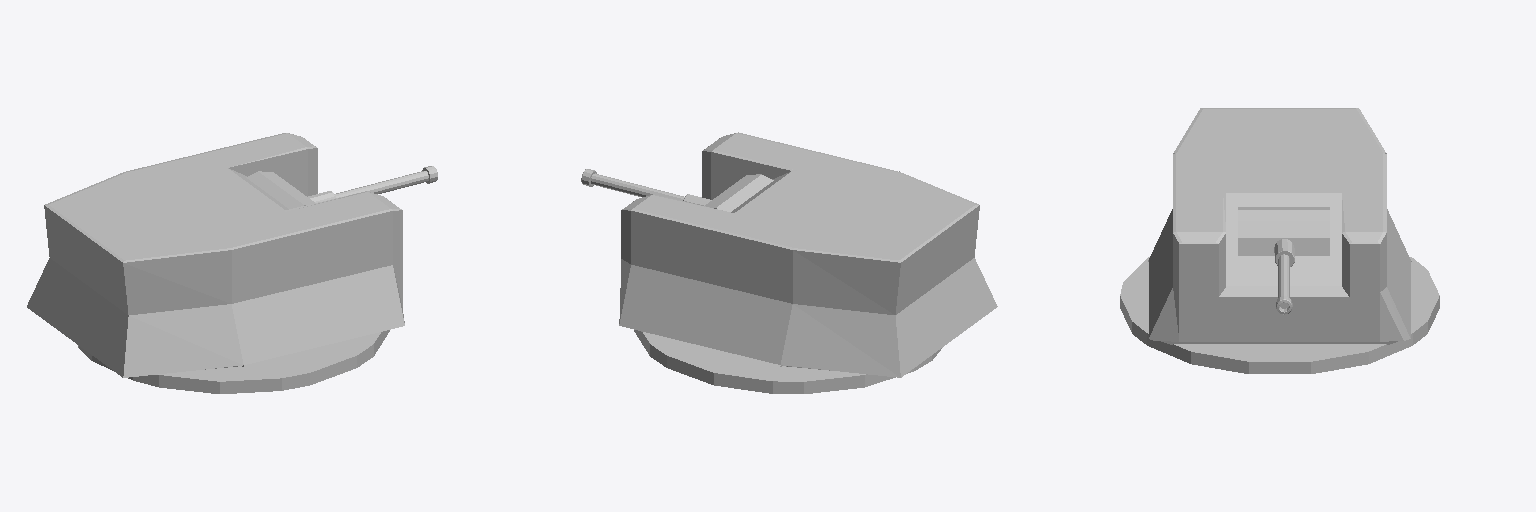
The model's file is turret1.obj.
3 renders of one model, left to right at view 1: azimuth 30°, elevation 25°; view 2: azimuth 150°, elevation 25°; view 3: azimuth 270°, elevation 25°, orthographic.
Visible parts, largest first — view 1: Cylinder_Cylinder.001, Cylinder.001_Cylinder; view 2: Cylinder_Cylinder.001, Cylinder.001_Cylinder; view 3: Cylinder_Cylinder.001, Cylinder.001_Cylinder.
Boxes of the visible parts, x1=… form: Cylinder_Cylinder.001: x1=27, y1=133, x2=437, y2=393; Cylinder.001_Cylinder: x1=246, y1=171, x2=314, y2=208; Cylinder_Cylinder.001: x1=581, y1=132, x2=997, y2=393; Cylinder.001_Cylinder: x1=705, y1=174, x2=773, y2=211; Cylinder_Cylinder.001: x1=1120, y1=108, x2=1439, y2=373; Cylinder.001_Cylinder: x1=1238, y1=207, x2=1329, y2=255.
Size of the model in its own units: 1.11 by 0.3795 by 0.85.